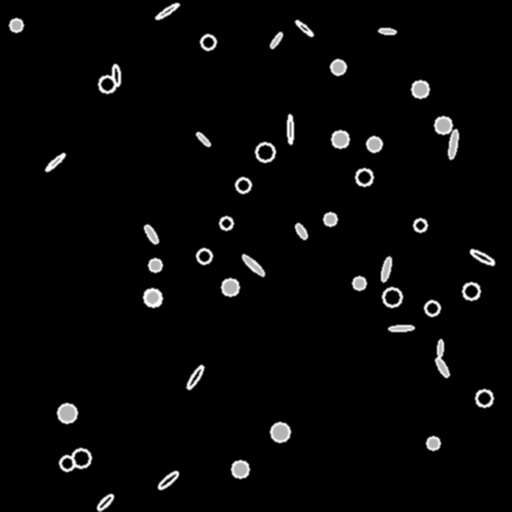pseudomonas: (241, 253, 265, 277), (156, 469, 180, 491), (185, 364, 205, 390), (154, 1, 180, 21), (468, 248, 496, 266), (44, 152, 66, 172), (95, 492, 115, 512), (294, 19, 314, 37), (434, 356, 450, 378), (143, 224, 159, 244), (448, 129, 458, 159), (380, 257, 392, 281), (195, 131, 211, 147), (294, 222, 308, 240), (269, 31, 283, 49), (111, 64, 121, 86), (287, 114, 293, 144), (389, 325, 413, 331), (437, 339, 443, 357), (379, 28, 395, 34)
synechocystis: (256, 143, 274, 161), (58, 404, 76, 422), (72, 449, 90, 467), (271, 423, 289, 441), (383, 288, 401, 306), (356, 169, 372, 185), (412, 81, 428, 97), (476, 390, 492, 406), (463, 283, 479, 299), (222, 279, 238, 295), (232, 461, 248, 477), (435, 117, 451, 133), (145, 290, 161, 306), (99, 76, 115, 92), (332, 131, 348, 147), (144, 289, 160, 305), (60, 456, 74, 470), (236, 178, 250, 192), (197, 249, 211, 263), (331, 60, 345, 74), (425, 301, 439, 315), (367, 137, 381, 151), (201, 35, 215, 49), (414, 219, 426, 231), (427, 437, 439, 449), (324, 213, 336, 225), (353, 277, 365, 289), (149, 259, 161, 271), (220, 217, 232, 229), (10, 19, 22, 31)
